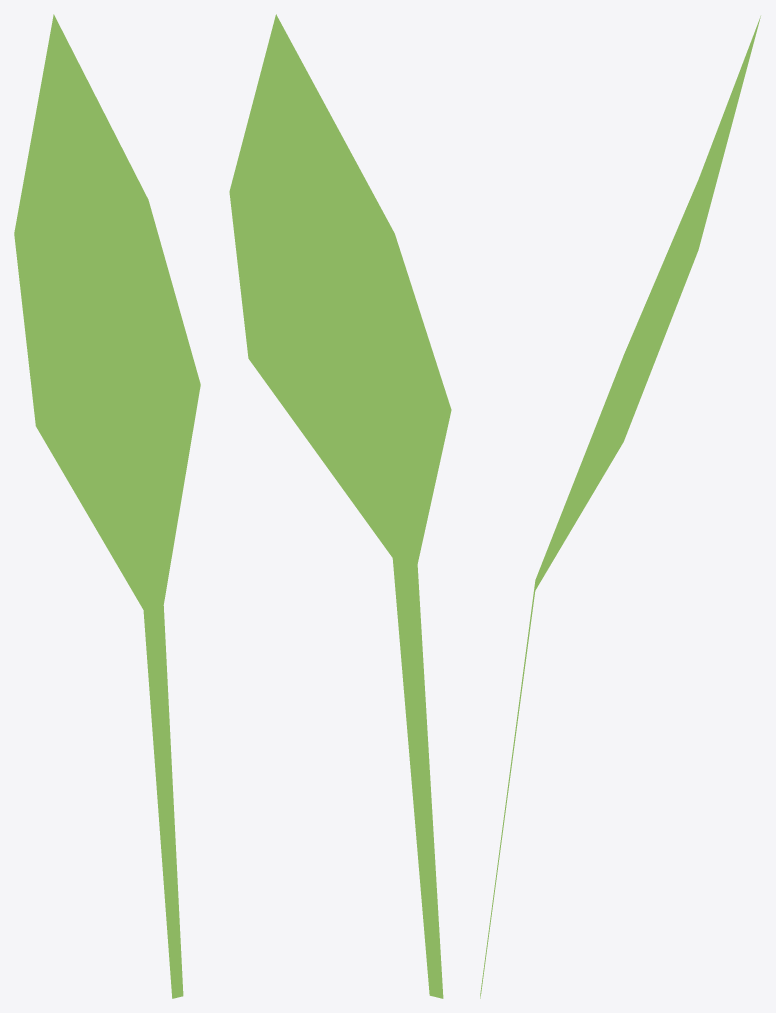
Rendered from Plant_g_OneS_01.fbx.
3 views of the same model, side by side, from view 1: azimuth 30°, elevation 25°; view 2: azimuth 150°, elevation 25°; view 3: azimuth 270°, elevation 25° (orthographic). The views are drawn at different scales.
Parts seen in each view (by area): view 1: Plant_g_OneS_01; view 2: Plant_g_OneS_01; view 3: Plant_g_OneS_01.
Boxes of the visible parts, bbox=[...] form: Plant_g_OneS_01: bbox=[14, 14, 200, 998]; Plant_g_OneS_01: bbox=[229, 14, 451, 998]; Plant_g_OneS_01: bbox=[480, 16, 760, 998].
Size of the model in its own units: 0.1281 by 0.6605 by 0.171.
